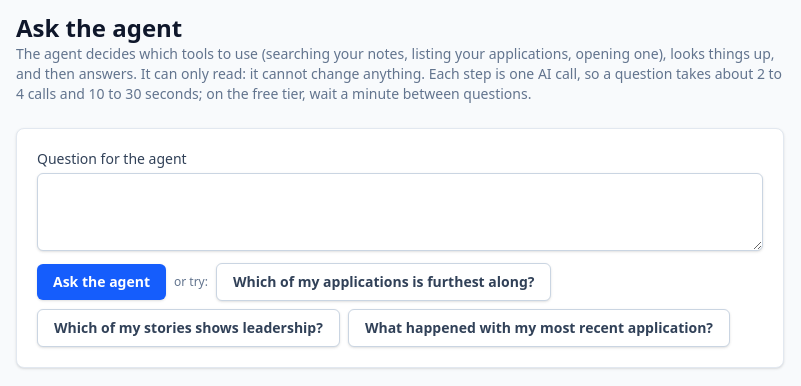
Test: AgentPage › fills in an example question when you click it
Click the button "Which of my applications is furthest along?". click: (384,282)
box: [216,263,552,301]
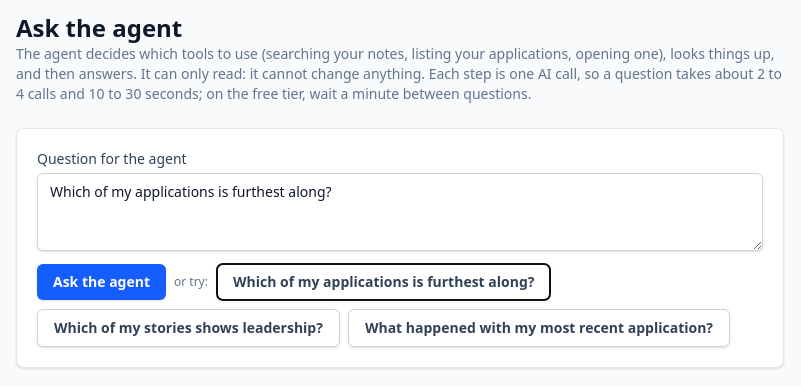
Expected: the text box labelled "Question for the agent" holds "Which of my applications is furthest along?", [37,173,763,251]
